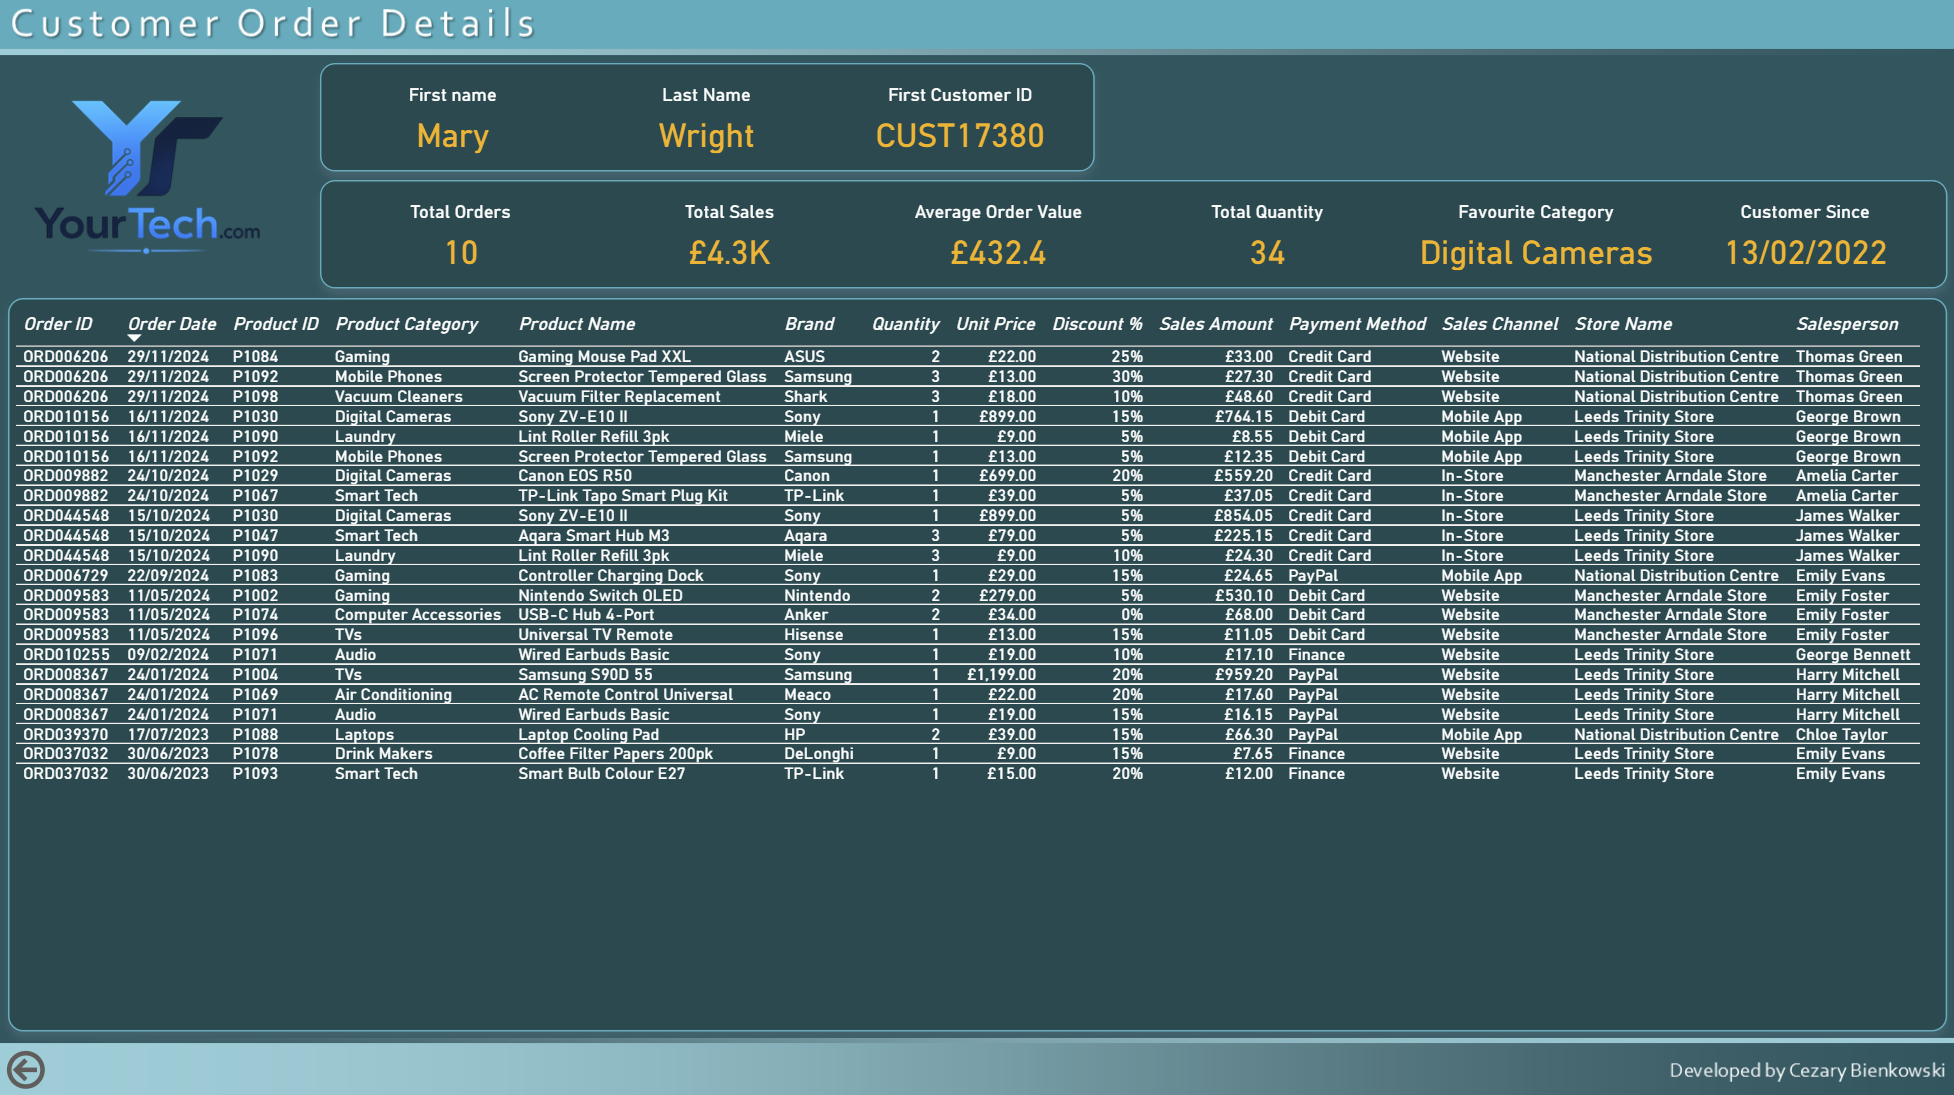

What the dashboard file says about the page in this screenshot:
{"tool":"powerbi","page":{"name":"dt Customer Orders","canvas":[1280,720],"ordinal":5},"visuals":[{"type":"actionButton","box":[0,685.7,100.2,33.8],"z":0},{"type":"tableEx","fields":{"Values":["fSales.Order ID","fSales.Order Date","fSales.Product ID","dProducts.Product Category","dProducts.Product Name","dProducts.Brand","fSales.Quantity","fSales.Unit Price","fSales.Discount %","fSales.Sales Amount","fSales.Payment Method","fSales.Sales Channel"]},"box":[5.4,197.7,1269.2,479.9],"z":1000},{"type":"cardVisual","fields":{"Data":["_Measures.Total Orders","_Measures.Total Sales","_Measures.Average Order Value","_Measures.Total Quantity","_Measures.Favourite Category"]},"box":[209.2,120.5,1065.4,71.1],"z":2000},{"type":"cardVisual","fields":{"Data":["Min(dCustomers.First name)","Min(dCustomers.Last Name)","Min(dCustomers.Customer ID)"]},"box":[209.2,44,507,71.1],"z":3000}]}

Visuals, with their boxes in screenshot pixels (x1, y1, x2, y2), scaled from the page's 1280x720 canvas onto the 1954x1095 screenshot:
actionButton: bbox=[0, 1043, 153, 1094]
tableEx - fSales.Order ID x fSales.Order Date: bbox=[8, 301, 1946, 1031]
cardVisual - _Measures.Total Orders x _Measures.Total Sales: bbox=[319, 183, 1946, 291]
cardVisual - Min(dCustomers.First name) x Min(dCustomers.Last Name): bbox=[319, 67, 1093, 175]
